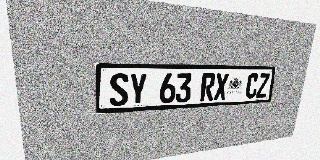3: (175, 73, 192, 103)
6: (159, 73, 177, 104)
C: (245, 73, 259, 99)
R: (200, 73, 216, 101)
S: (109, 73, 129, 107)
X: (213, 73, 229, 100)
Y: (129, 73, 147, 105)
Z: (256, 73, 270, 98)
